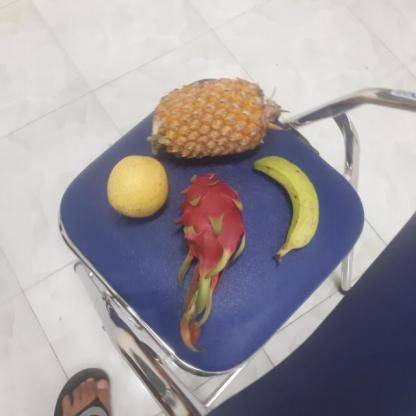banana: (252, 154, 321, 250)
pear: (102, 156, 170, 220)
pineapple: (148, 78, 274, 164)
pitaya: (170, 171, 245, 270)
